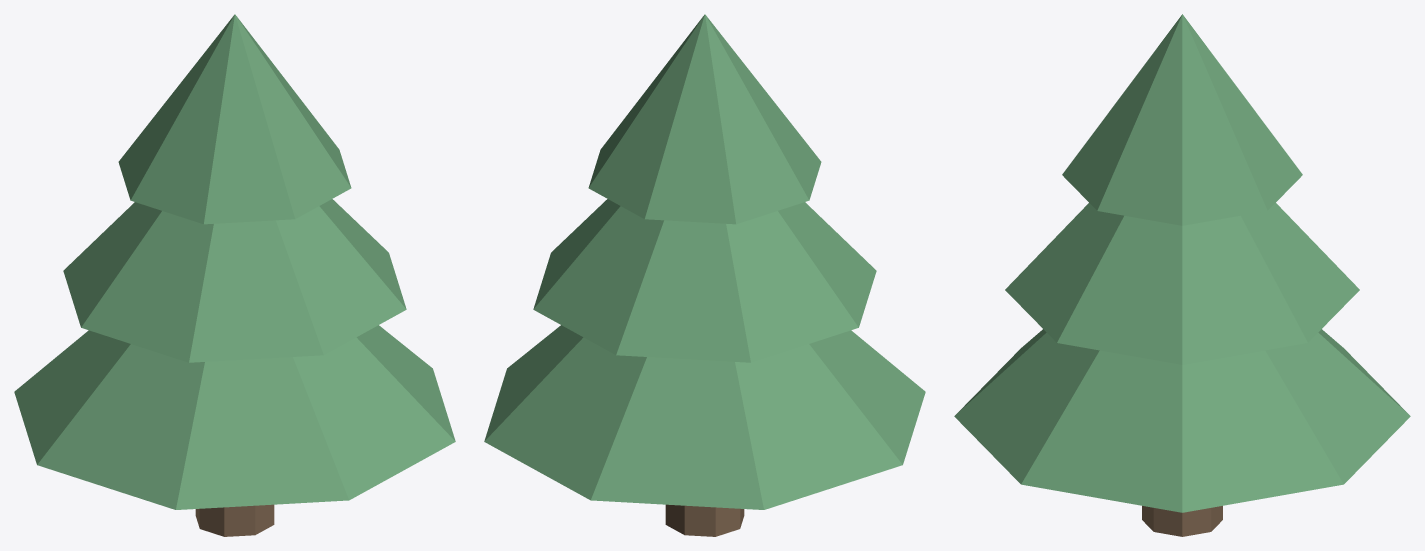
The model's file is Tree_Pine.glb.
3 views of the same model, side by side, from view 1: azimuth 30°, elevation 25°; view 2: azimuth 150°, elevation 25°; view 3: azimuth 270°, elevation 25° (orthographic).
Visible parts, largest first — view 1: Tree_Pine; view 2: Tree_Pine; view 3: Tree_Pine.
Boxes of the visible parts, box(x1,y1,x2,y2) form: Tree_Pine: box(14, 14, 455, 536); Tree_Pine: box(484, 14, 925, 536); Tree_Pine: box(954, 14, 1410, 536).
Size of the model in its own units: 3.6 by 4.4 by 3.6.
